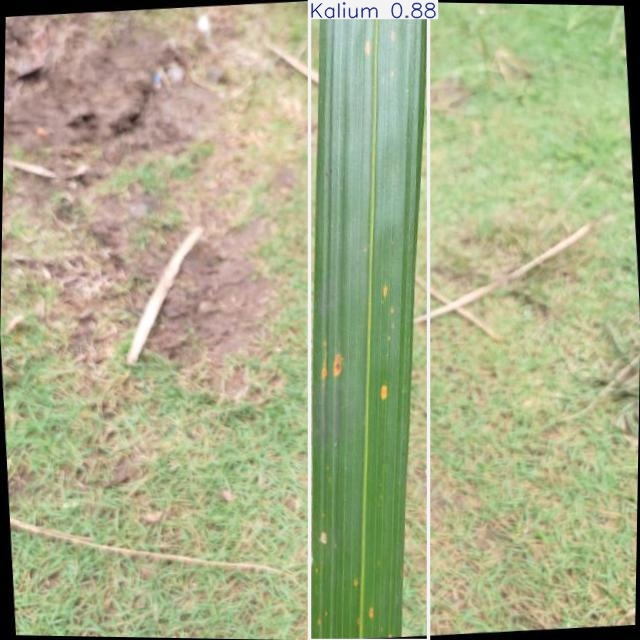Kalium: (310, 0, 429, 640)
